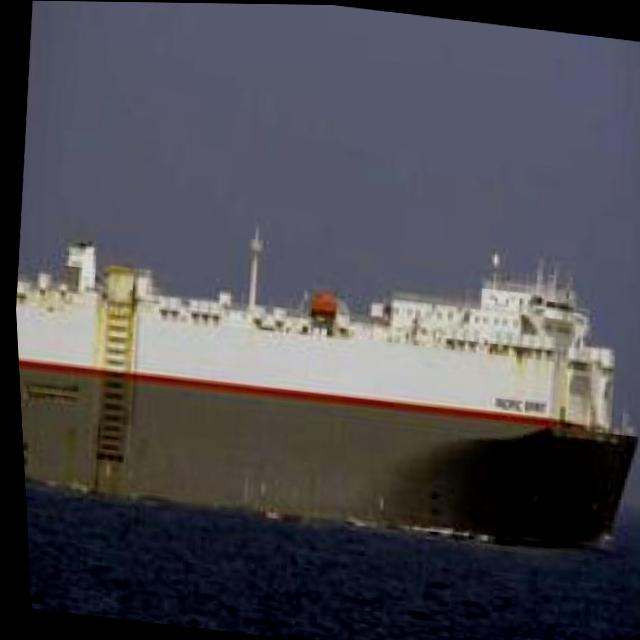ship2: (12, 226, 633, 549)
